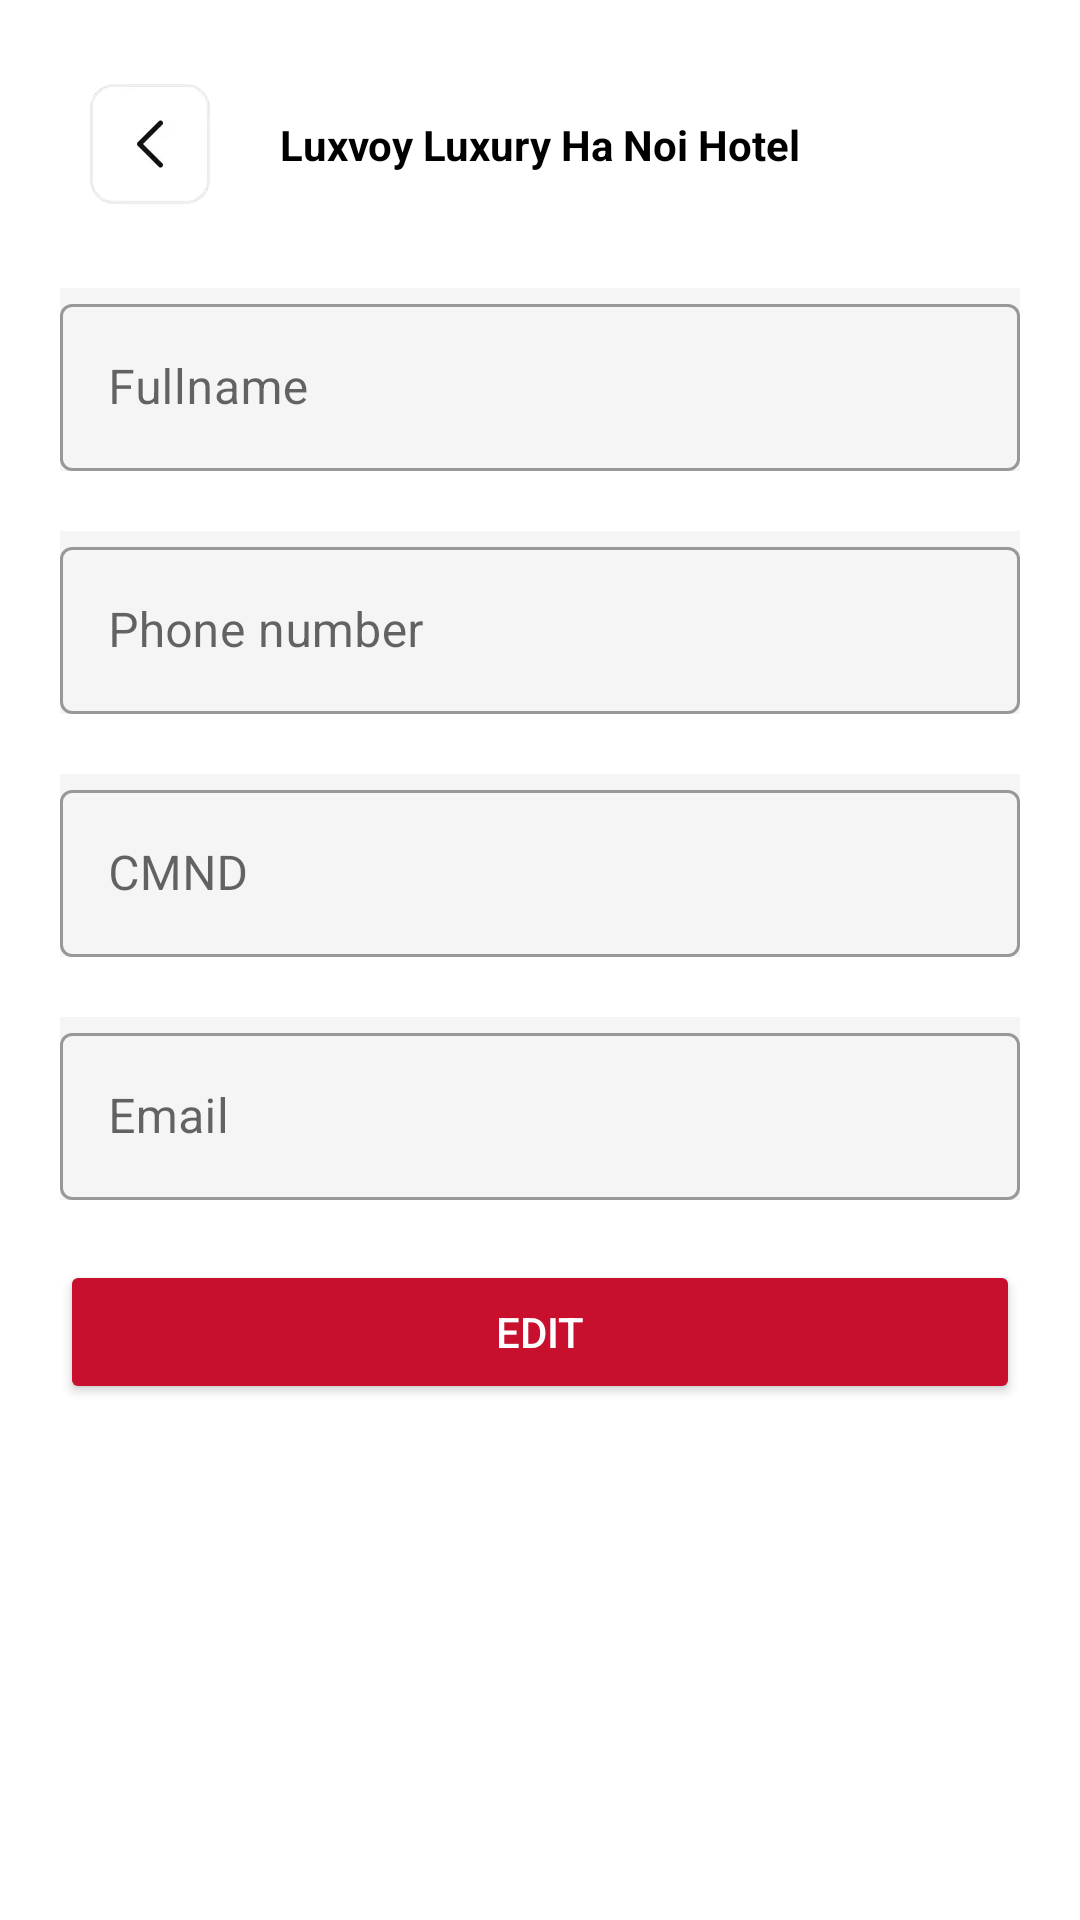

Where to tap for icons on this 1080*1920 app screen, as (x=x, y=y):
back: (x=150, y=144)
